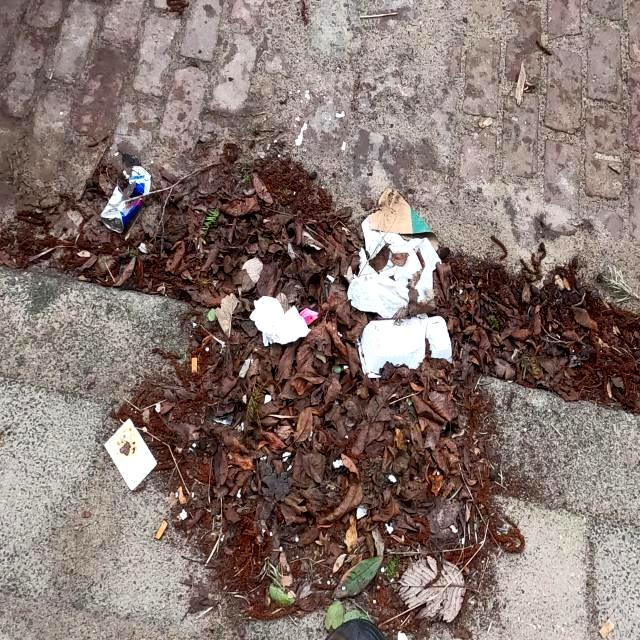Metal: (98, 162, 152, 235)
Paper: (360, 214, 442, 304), (356, 312, 452, 378), (346, 245, 409, 319), (103, 416, 157, 492), (248, 294, 312, 348)
Plastic: (300, 306, 320, 326)
